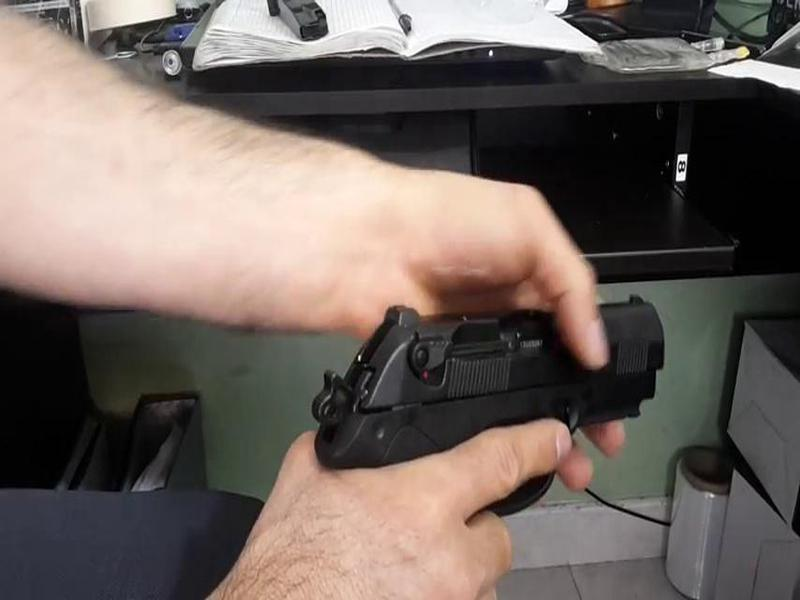Pistola: (277, 280, 709, 538)
